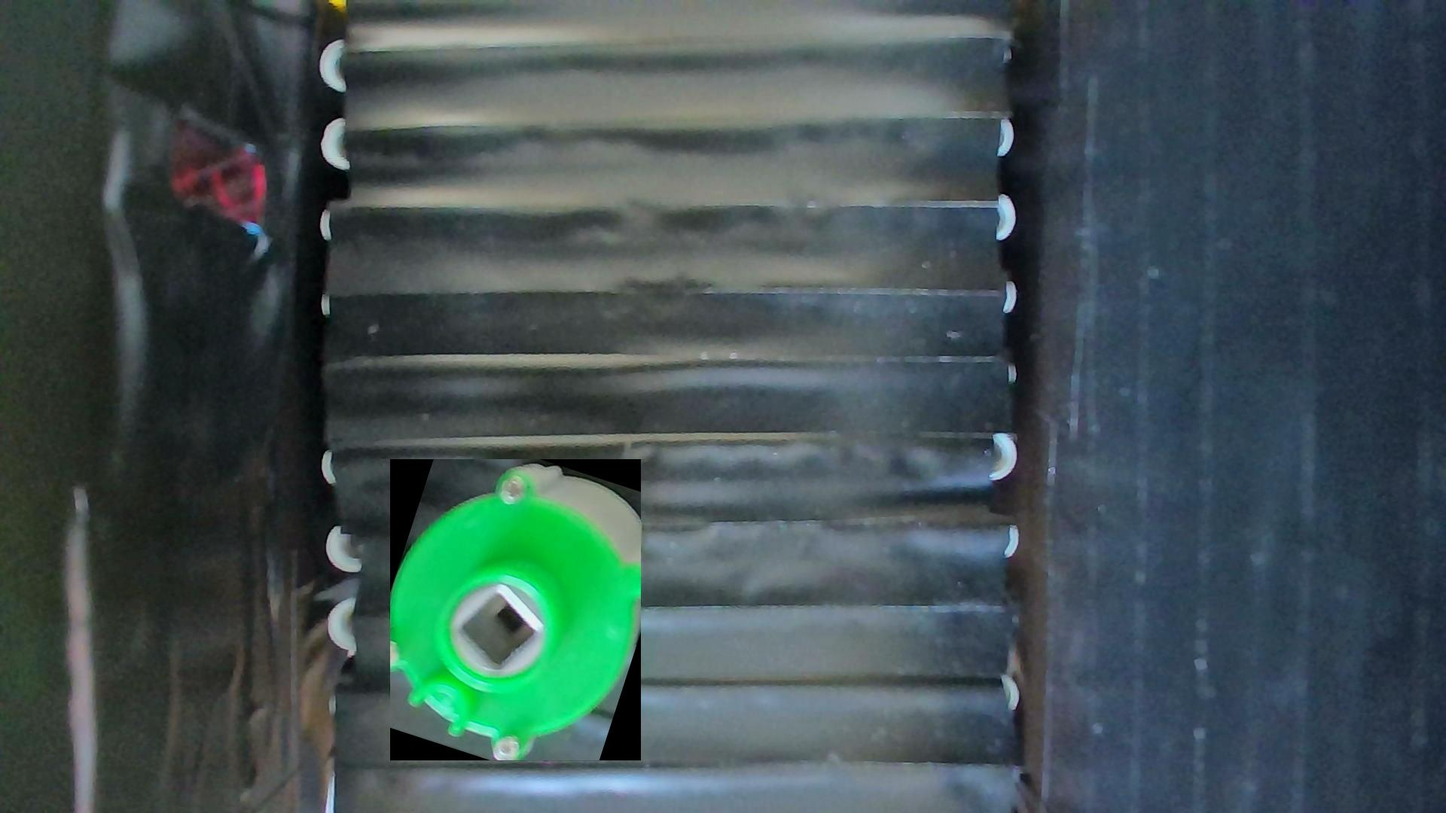cartridge: (390, 460, 641, 762)
